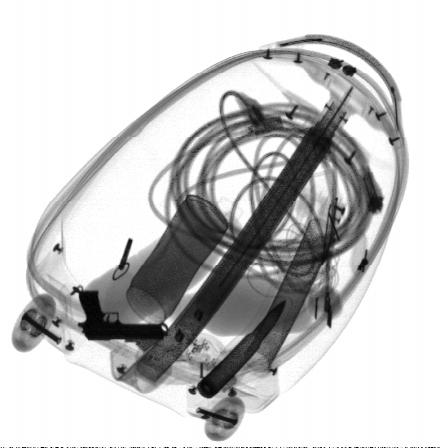Bullet: (198, 299, 287, 400)
Gun: (76, 289, 164, 341)
